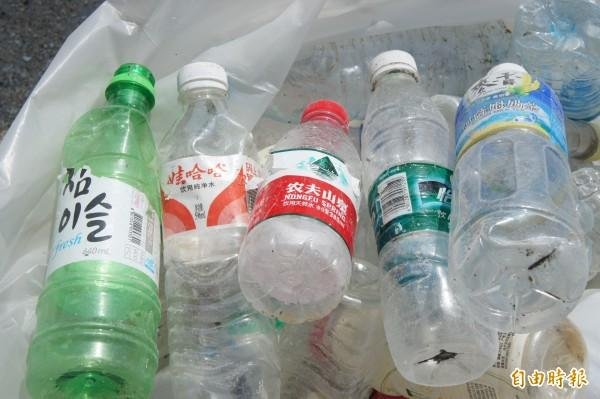bottle: (456, 59, 578, 339), (358, 0, 504, 192), (148, 0, 284, 199), (0, 0, 137, 190), (0, 0, 67, 31)
